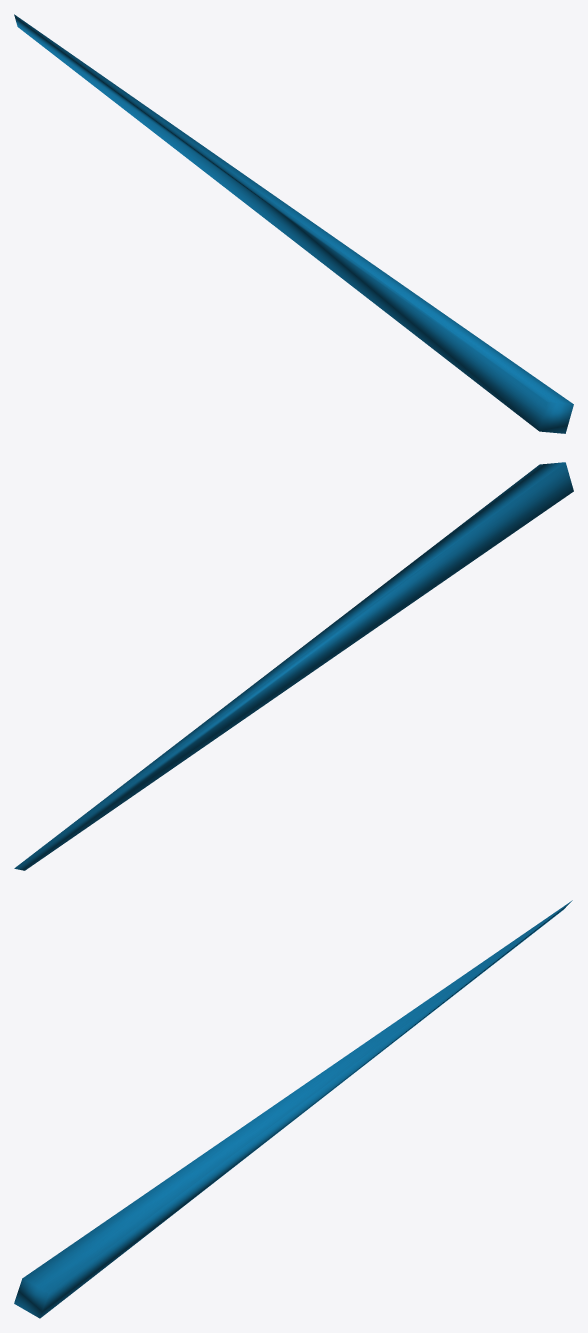
Rendered from SM_projectile_trail_LOD2.fbx.
3 views of the same model, one above another, from view 1: azimuth 30°, elevation 25°; view 2: azimuth 150°, elevation 25°; view 3: azimuth 330°, elevation 25° (orthographic).
Visible parts, largest first — view 1: SM_projectile_trail_LOD2; view 2: SM_projectile_trail_LOD2; view 3: SM_projectile_trail_LOD2.
Boxes of the visible parts, x1,y1,x2,y2 form: SM_projectile_trail_LOD2: [14, 14, 573, 433]; SM_projectile_trail_LOD2: [14, 462, 573, 870]; SM_projectile_trail_LOD2: [14, 900, 572, 1318].
Size of the model in its own units: 0.0371 by 1.01 by 0.0371.
